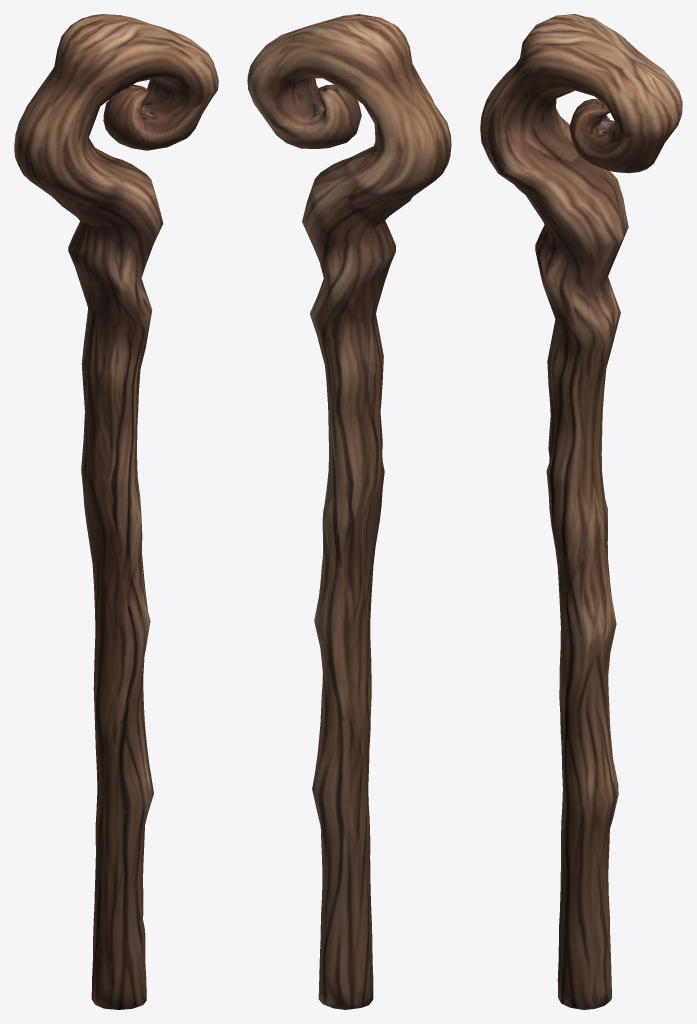
Rendered from SM_Gear_Staff.fbx.
3 renders of one model, left to right at view 1: azimuth 30°, elevation 25°; view 2: azimuth 150°, elevation 25°; view 3: azimuth 330°, elevation 25°, orthographic.
Parts seen in each view (by area): view 1: SM_Gear_Staff; view 2: SM_Gear_Staff; view 3: SM_Gear_Staff.
Part boxes in pixels (bbox=[...]): SM_Gear_Staff: bbox=[14, 14, 218, 1009]; SM_Gear_Staff: bbox=[247, 14, 451, 1009]; SM_Gear_Staff: bbox=[480, 14, 682, 1009].
Size of the model in its own units: 0.2683 by 1.35 by 0.1533.
